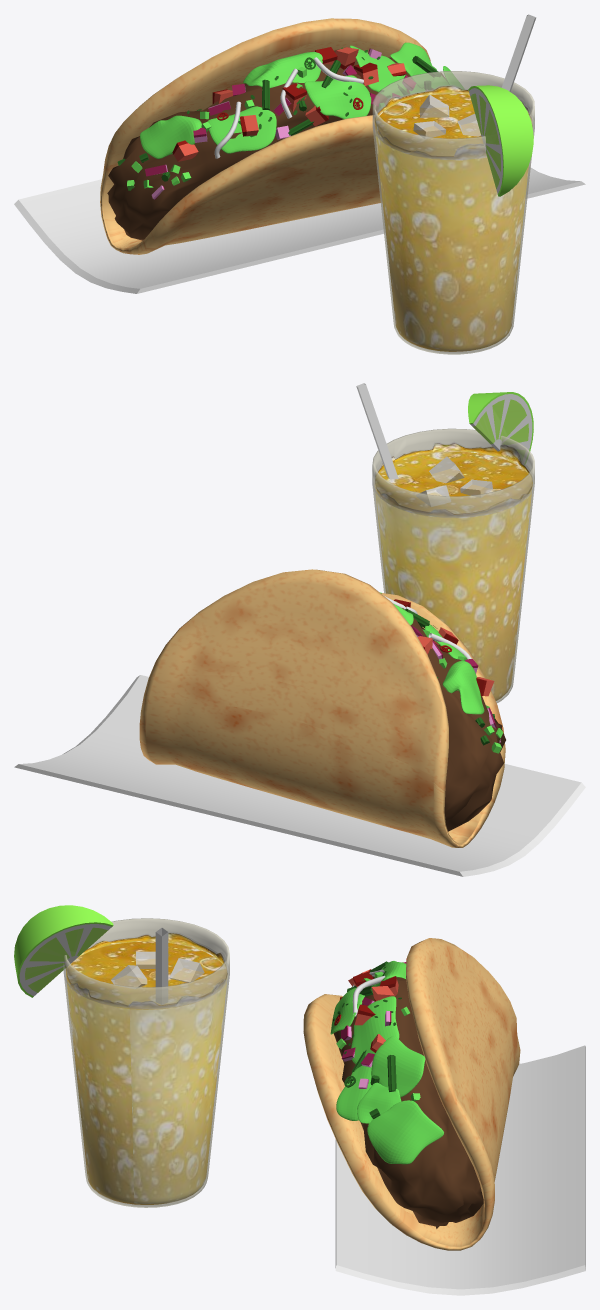
The model's file is taco.glb.
The picture shows the model from 3 angles, top to bottom: view 1: azimuth 30°, elevation 25°; view 2: azimuth 150°, elevation 25°; view 3: azimuth 270°, elevation 25°; orthographic projection. The views are drawn at different scales.
Parts seen in each view (by area): view 1: Taco.025, Jarritos_glass, Deli_paper, Ice_cubes; view 2: Taco.025, Jarritos_glass, Deli_paper, Ice_cubes; view 3: Taco.025, Jarritos_glass, Deli_paper, Ice_cubes.
Boxes of the visible parts, left/top/right/bottom form: Taco.025: left=100, top=18, right=463, bottom=254; Jarritos_glass: left=372, top=71, right=534, bottom=354; Deli_paper: left=14, top=14, right=585, bottom=293; Ice_cubes: left=413, top=93, right=500, bottom=188; Taco.025: left=139, top=569, right=505, bottom=847; Jarritos_glass: left=372, top=428, right=534, bottom=703; Deli_paper: left=14, top=383, right=585, bottom=876; Ice_cubes: left=416, top=399, right=528, bottom=506; Taco.025: left=303, top=938, right=520, bottom=1250; Jarritos_glass: left=63, top=918, right=229, bottom=1207; Deli_paper: left=14, top=905, right=585, bottom=1295; Ice_cubes: left=25, top=927, right=204, bottom=992.
Bounding box in the file's own units: 0.255 × 0.158 × 0.2755.
7 materials, 7 textured.
